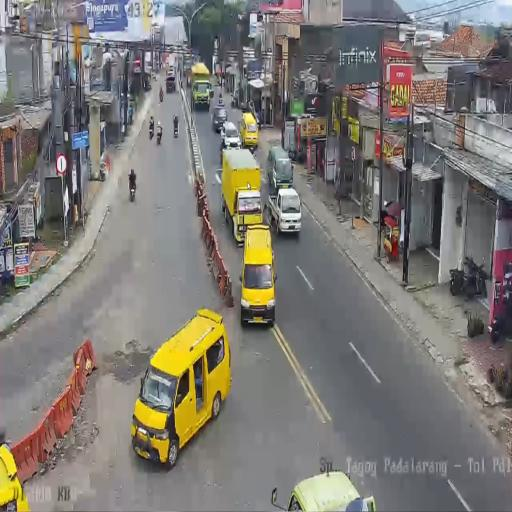3: (221, 147, 261, 245), (166, 68, 176, 93)
car: (239, 226, 276, 324), (266, 185, 300, 236), (266, 144, 293, 192), (240, 111, 259, 150), (219, 120, 241, 152), (192, 79, 212, 110), (212, 104, 228, 132)
motorcycle: (130, 308, 231, 466)
truck: (450, 254, 487, 300), (490, 294, 512, 342), (129, 178, 136, 202), (149, 118, 154, 140), (230, 93, 237, 108), (156, 127, 162, 144), (160, 90, 164, 102)
